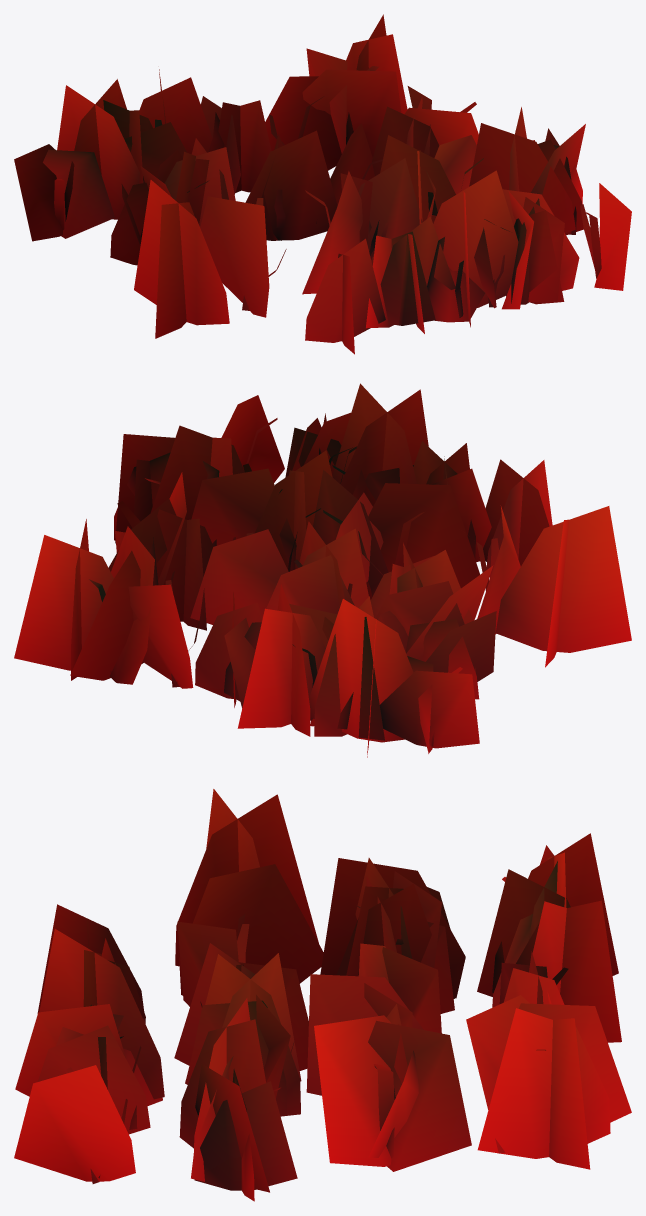
File: SM_Barley_1.fbx
3 views of the same model, one above another, from view 1: azimuth 30°, elevation 25°; view 2: azimuth 150°, elevation 25°; view 3: azimuth 270°, elevation 25° (orthographic). The views are drawn at different scales.
Parts seen in each view (by area): view 1: SM_Barley_1; view 2: SM_Barley_1; view 3: SM_Barley_1.
Part boxes in pixels (bbox=[...]): SM_Barley_1: bbox=[14, 14, 631, 354]; SM_Barley_1: bbox=[14, 383, 631, 757]; SM_Barley_1: bbox=[14, 789, 631, 1201].
Size of the model in its own units: 1.31 by 0.3988 by 1.28.
